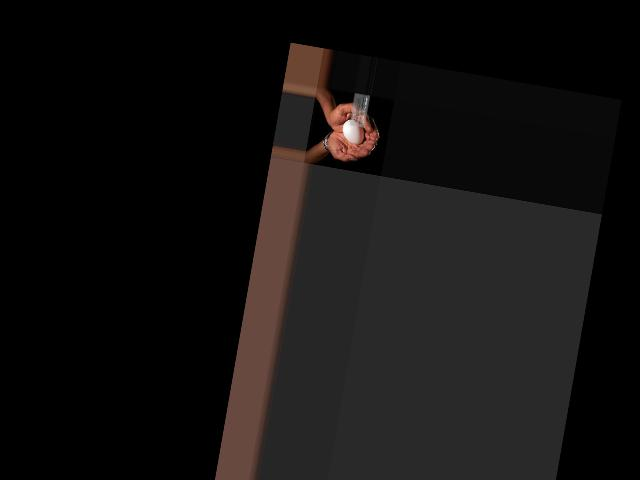egg: (340, 118, 367, 145)
